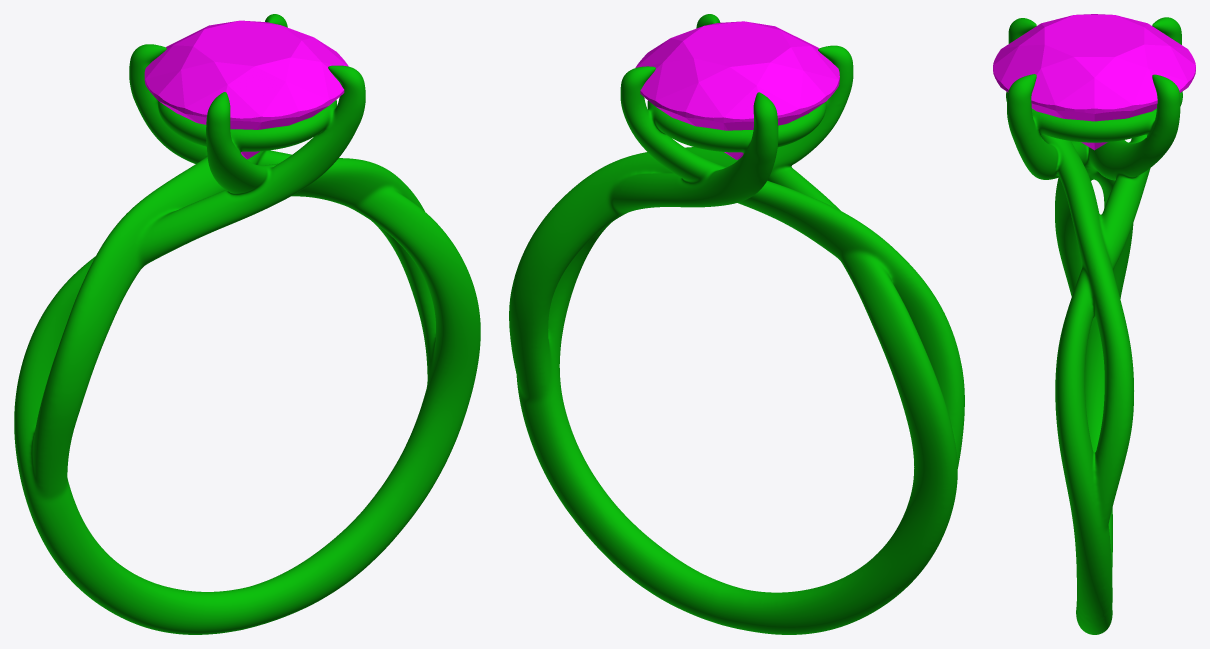
File: BE1818_RD_200ct_RENDER.glb
3 views of the same model, side by side, from view 1: azimuth 30°, elevation 25°; view 2: azimuth 150°, elevation 25°; view 3: azimuth 270°, elevation 25° (orthographic).
Parts seen in each view (by area): view 1: Metal 01, CS_Diamond_Round; view 2: Metal 01, CS_Diamond_Round; view 3: Metal 01, CS_Diamond_Round.
Boxes of the visible parts, x1,y1,x2,y2 form: Metal 01: (14, 14, 480, 634); CS_Diamond_Round: (144, 20, 348, 159); Metal 01: (509, 14, 964, 634); CS_Diamond_Round: (635, 21, 839, 159); Metal 01: (1006, 17, 1182, 634); CS_Diamond_Round: (993, 14, 1195, 150).
Bounding box in the file's own units: 20.08 × 24.98 × 8.
